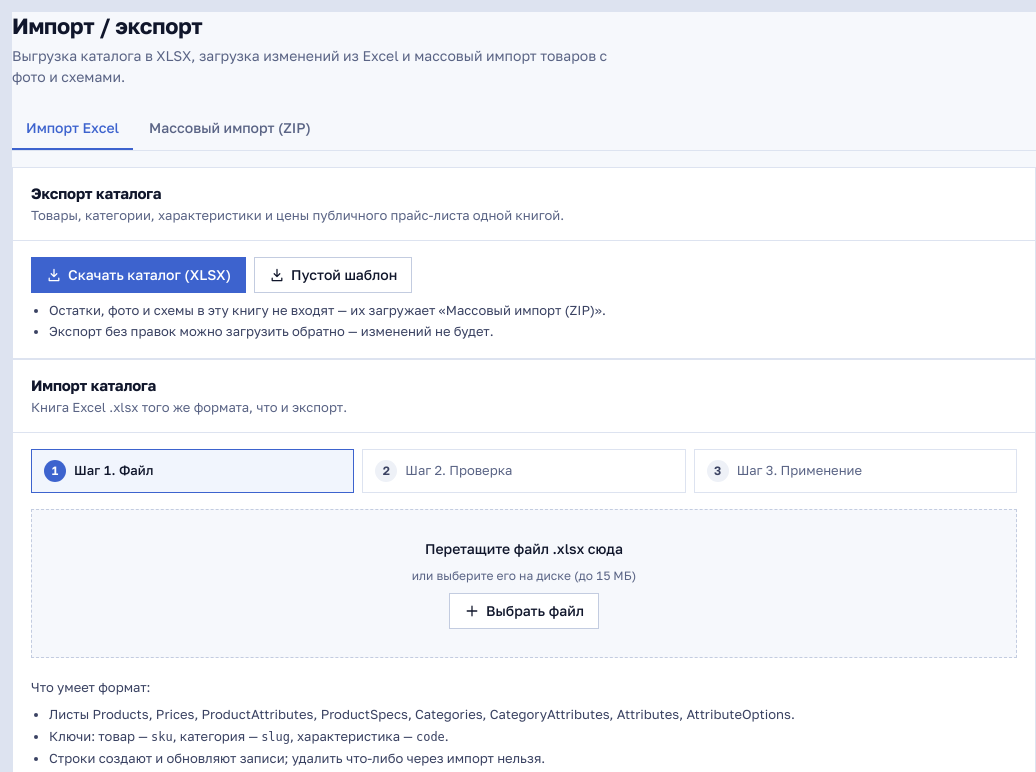
Test: экспорт › ошибка сервера показывается тостом, файл не сохраняется
Click the button "Скачать каталог (XLSX)": (138, 275) [31,257,246,293]
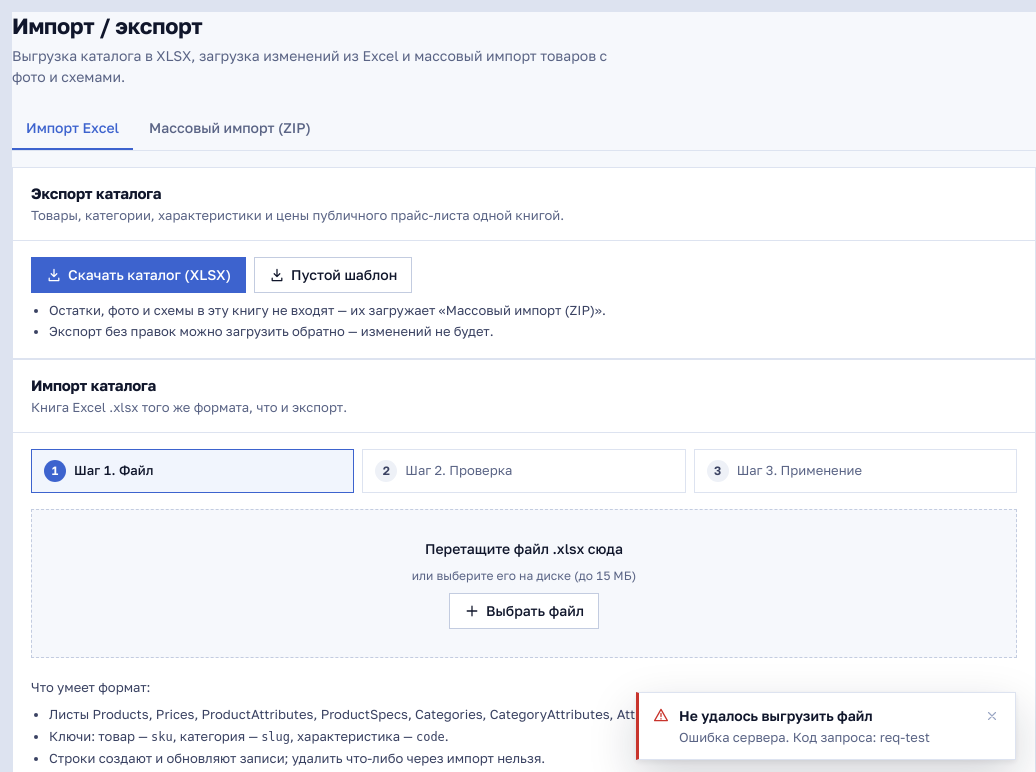
Check: the text "Не удалось выгрузить файл" is shown, box [679,706,873,724]
